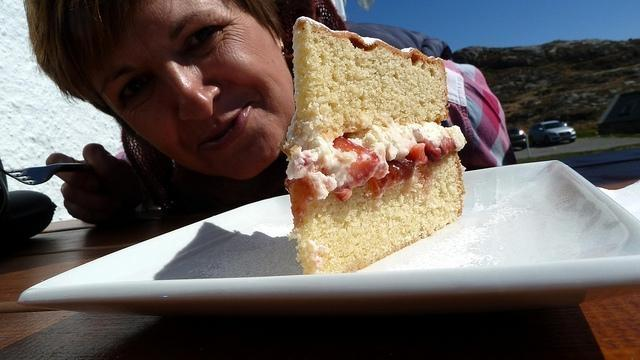car: (528, 120, 576, 147), (508, 126, 528, 148)
